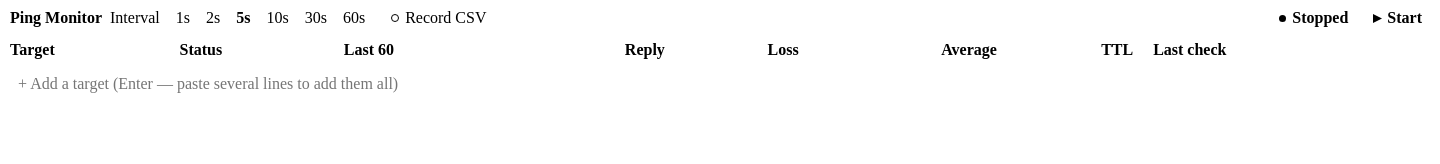
Scenario: PingMonitorPane › starts with the listed targets and shows Monitoring and Stop
Type "192.0.2.1, 198.51.100.20" into the field labelled "Add a target". click: coordinates (720, 84)
box: [10,70,1430,98]
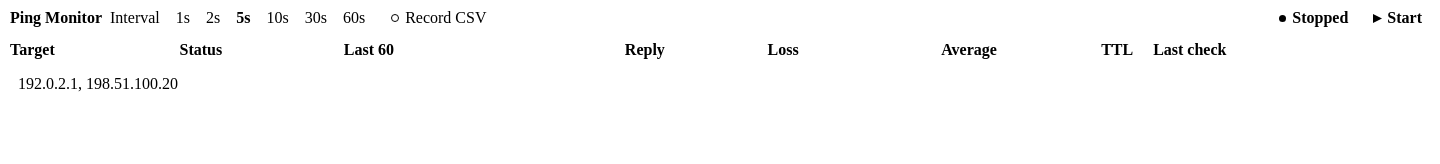
Press Enter in the field named "Add a target", box [10,70,1430,98]
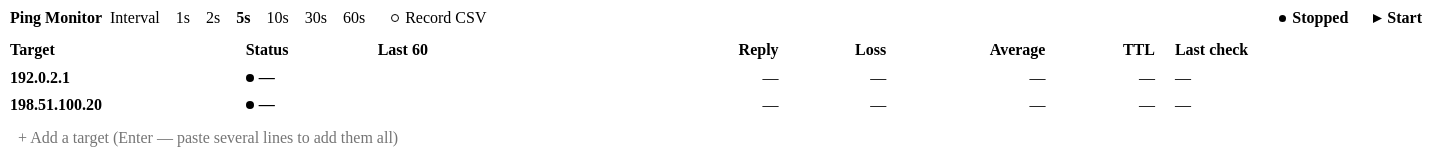
Click the button "Start". click: coordinates (1398, 18)
box: [1365,6,1430,30]
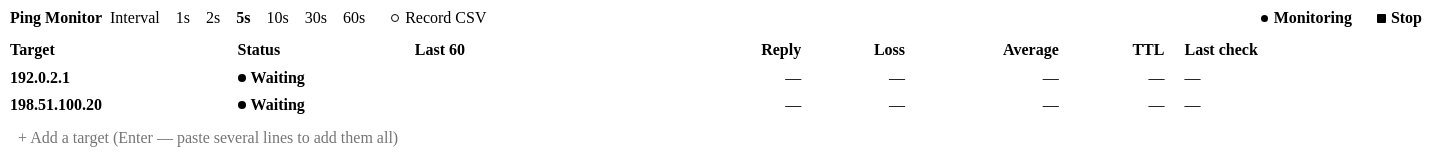
Expected: the message reads "Monitoring", [1274,9,1352,26]
Expected: the button "Stop" is shown, [1369,6,1430,30]
